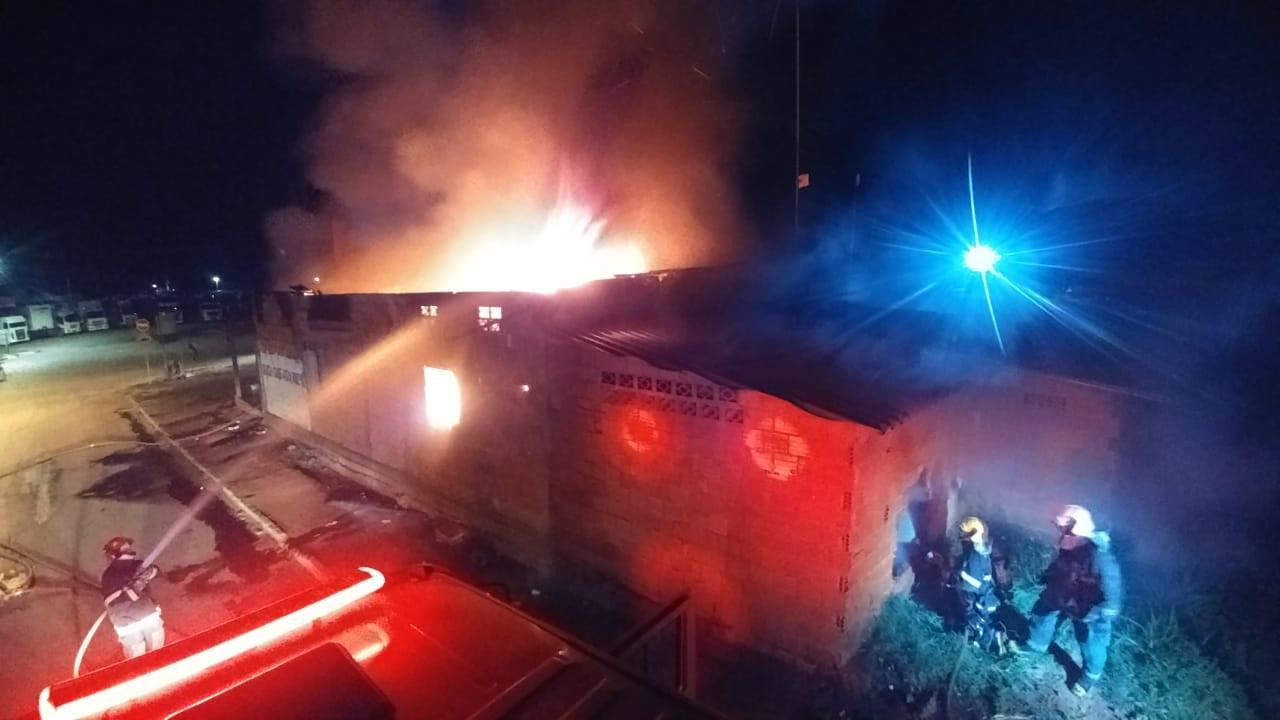fire: (362, 167, 726, 301)
smoke: (336, 10, 614, 116)
